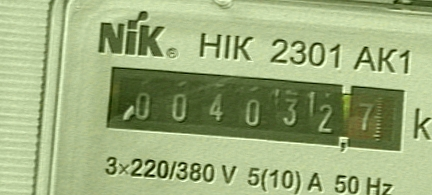0: (169, 91, 191, 125), (133, 89, 154, 123), (243, 96, 264, 130)
2: (316, 101, 336, 136)
3: (281, 96, 301, 129)
4: (206, 90, 228, 127)
7: (358, 101, 377, 135)
screen: (96, 58, 415, 165)
